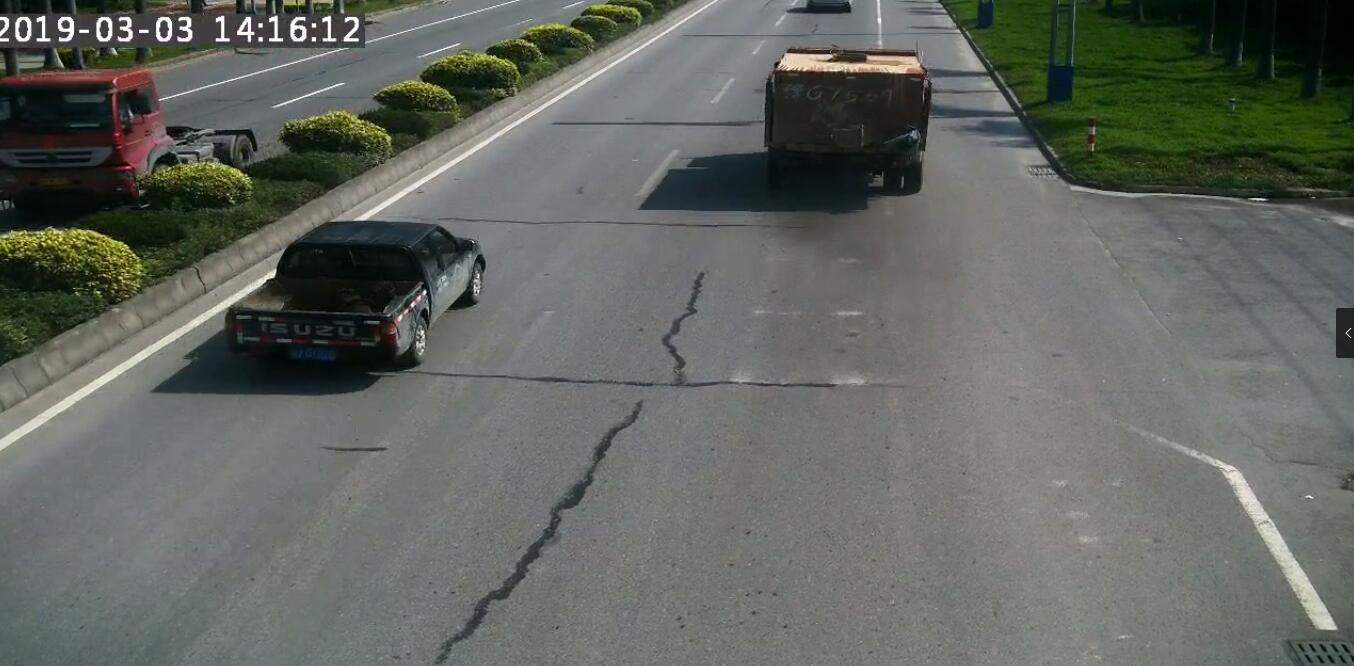yanwu: (813, 158, 960, 281)
